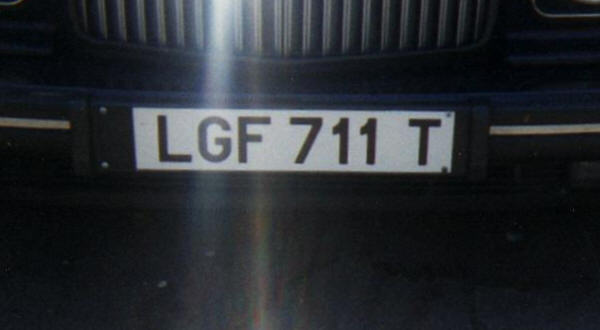license_plate: (130, 106, 455, 174)
